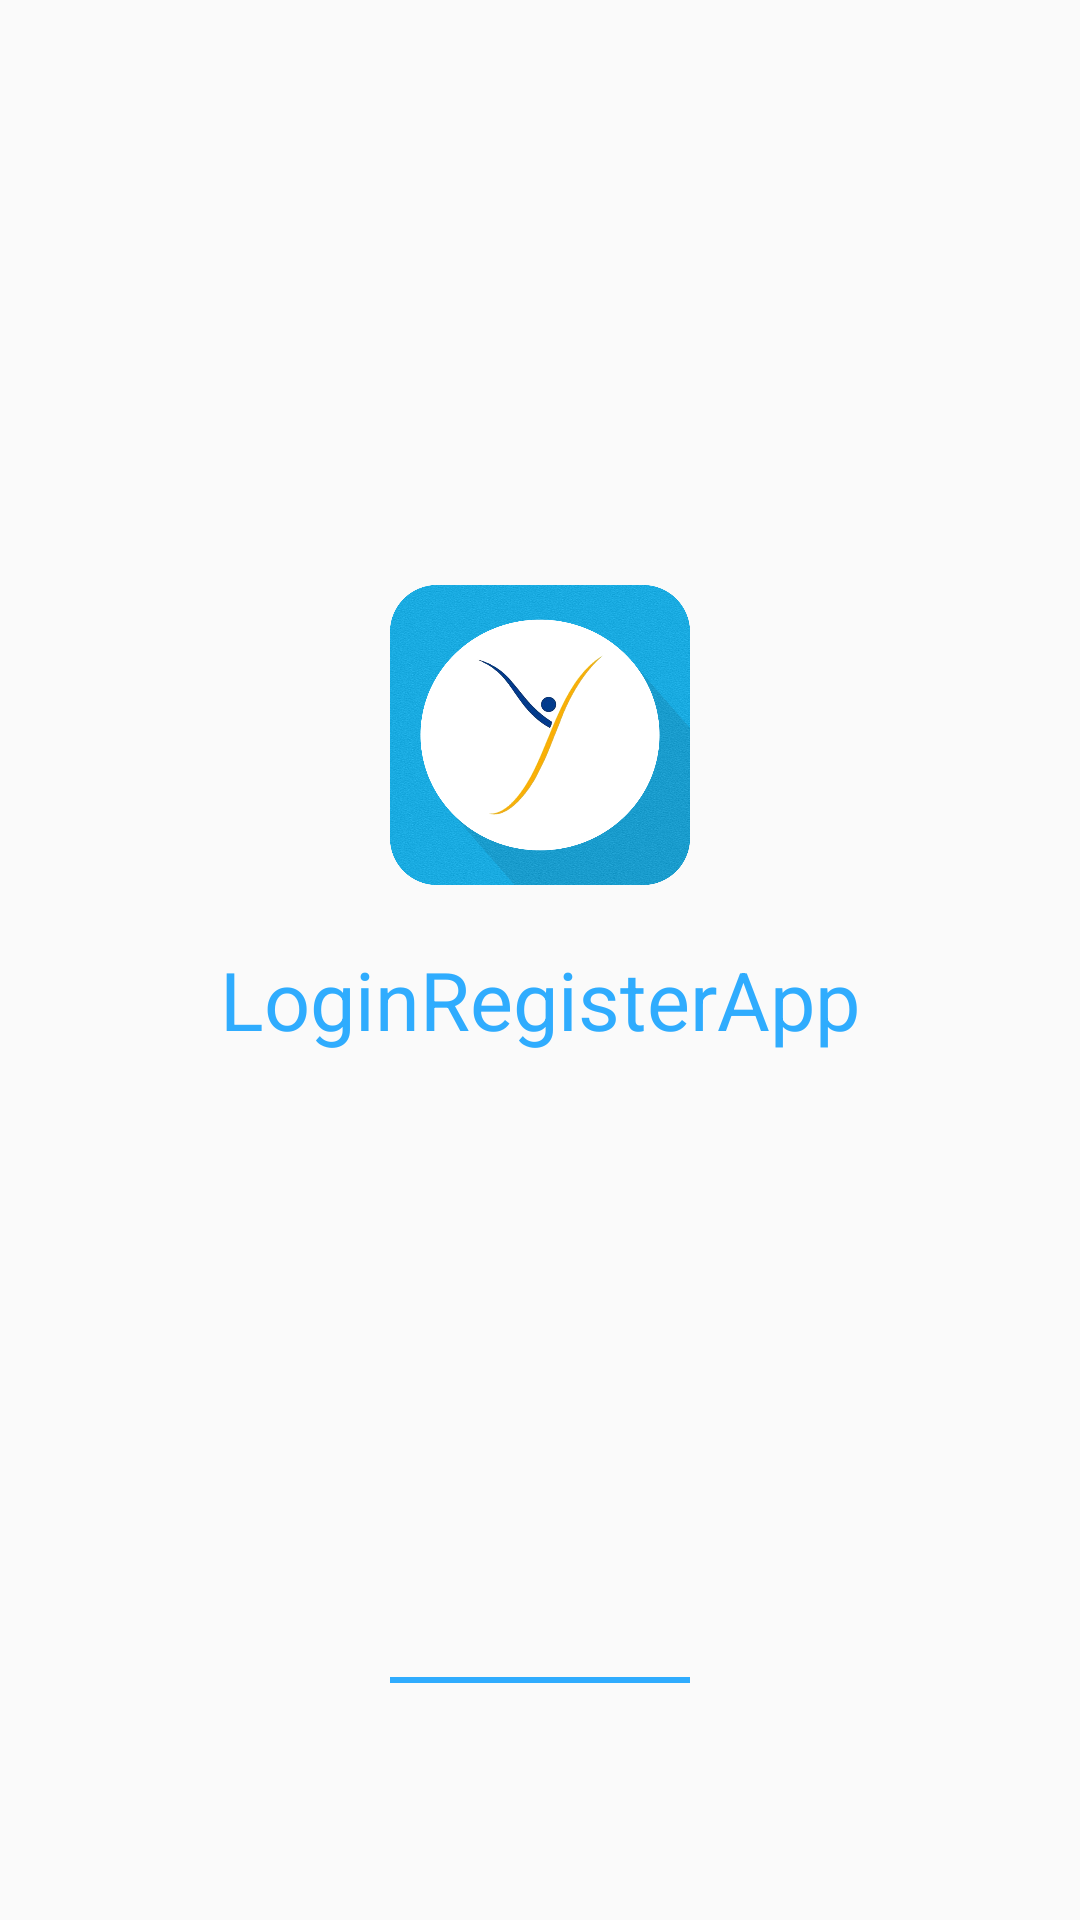

Icon click points for this 1080px x 1920px phone screenshot, format point (x, y):
app: point (540, 735)
